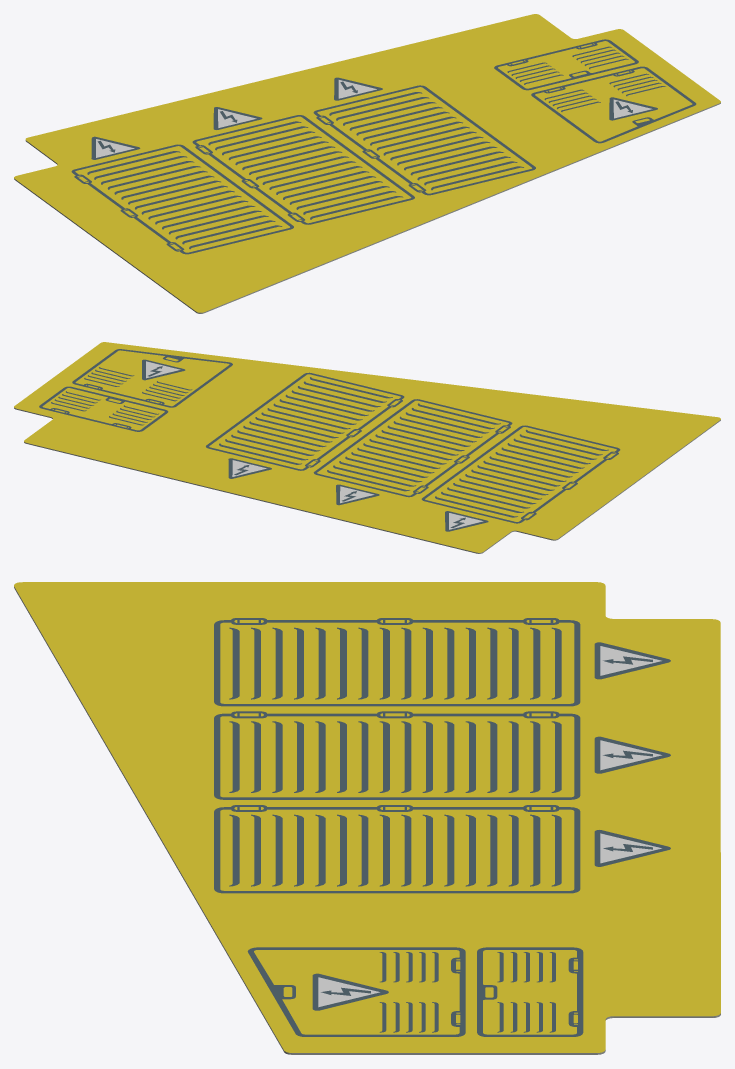
The picture shows the model from 3 angles, top to bottom: view 1: azimuth 30°, elevation 25°; view 2: azimuth 150°, elevation 25°; view 3: azimuth 270°, elevation 25°; orthographic projection. The views are drawn at different scales.
Parts seen in each view (by area): view 1: world; view 2: world; view 3: world.
Boxes of the visible parts, x1,y1,x2,y2 form: world: (14,14,720,313); world: (14,342,720,553); world: (14,582,720,1054).
Bounding box in the file's own units: 0.055 × 0.0001 × 0.0349.
